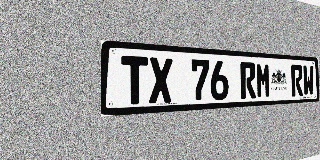6: (210, 60, 229, 101)
7: (190, 59, 210, 102)
M: (256, 63, 271, 98)
R: (240, 62, 256, 99), (291, 65, 303, 97)
T: (121, 56, 148, 105)
W: (303, 65, 314, 96)
X: (149, 57, 173, 104)
